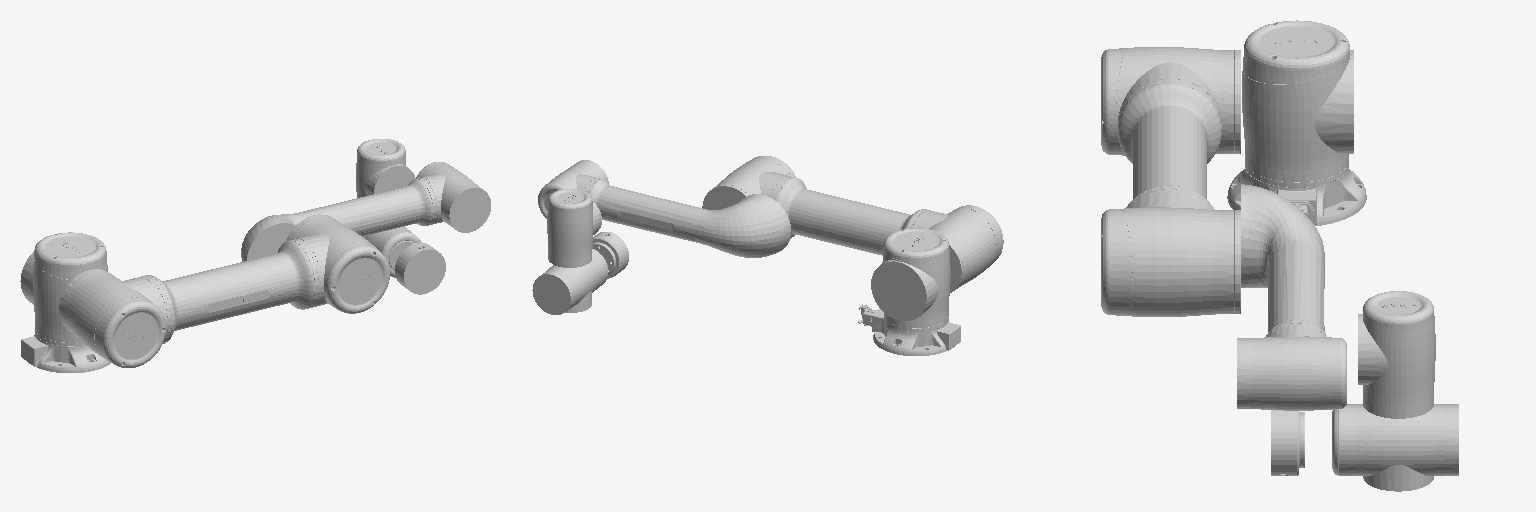
The robot description file, URDF, robot "jaka_zu7":
<?xml version="1.0" encoding="utf-8"?>
<!-- This URDF was automatically created by SolidWorks to URDF Exporter! Originally created by [author] ([email redacted]) 
     Commit Version: 1.5.1-0-g916b5db  Build Version: 1.5.7152.31018
     For more information, please see http://wiki.ros.org/sw_urdf_exporter -->
<robot
  name="jaka_zu7">

  <link name="dummy" />
  <joint name="dummy_joint" type="fixed">
       <parent link="dummy"/>
       <child link="Link_0"/>
  </joint>

  <link
    name="Link_0">
    <inertial>
      <origin
        xyz="0.00096371 8.8222E-08 0.019555"
        rpy="0 0 0" />
      <mass
        value="4.0392" />
      <inertia
        ixx="0.0048763"
        ixy="-1.8056E-07"
        ixz="2.5196E-05"
        iyy="0.0068003"
        iyz="-1.7678E-09"
        izz="0.010618" />
    </inertial>
    <visual>
      <origin
        xyz="0 0 0"
        rpy="0 0 0" />
      <geometry>
        <mesh
          filename="package://jaka_rviz/meshes/jaka_zu7_meshes/Link_0.STL" />
      </geometry>
      <material
        name="">
        <color
          rgba="0.84706 0.84706 0.84706 1" />
      </material>
    </visual>
    <collision>
      <origin
        xyz="0 0 0"
        rpy="0 0 0" />
      <geometry>
        <mesh
          filename="package://jaka_rviz/meshes/jaka_zu7_meshes/Link_0.STL" />
      </geometry>
    </collision>
  </link>
  <link
    name="Link_1">
    <inertial>
      <origin
        xyz="-2.5186E-07 0.0033226 -0.001509"
        rpy="0 0 0" />
      <mass
        value="15.135" />
      <inertia
        ixx="0.044302"
        ixy="1.5349E-07"
        ixz="-6.1966E-07"
        iyy="0.043091"
        iyz="1.4326E-05"
        izz="0.030523" />
    </inertial>
    <visual>
      <origin
        xyz="0 0 0"
        rpy="0 0 0" />
      <geometry>
        <mesh
          filename="package://jaka_rviz/meshes/jaka_zu7_meshes/Link_1.STL" />
      </geometry>
      <material
        name="">
        <color
          rgba="0.84706 0.84706 0.84706 1" />
      </material>
    </visual>
    <collision>
      <origin
        xyz="0 0 0"
        rpy="0 0 0" />
      <geometry>
        <mesh
          filename="package://jaka_rviz/meshes/jaka_zu7_meshes/Link_1.STL" />
      </geometry>
    </collision>
  </link>
  <joint
    name="joint_1"
    type="revolute">
    <origin
      xyz="0 0 0.12015"
      rpy="0 0 0" />
    <parent
      link="Link_0" />
    <child
      link="Link_1" />
    <axis
      xyz="0 0 -1" />
    <limit
      lower="0"
      upper="0"
      effort="0"
      velocity="0" />
  </joint>
  <link
    name="Link_2">
    <inertial>
      <origin
        xyz="0.18 8.8001E-09 -0.14308"
        rpy="0 0 0" />
      <mass
        value="42.872" />
      <inertia
        ixx="0.1014"
        ixy="-1.1106E-06"
        ixz="-1.3363E-07"
        iyy="1.1119"
        iyz="2.9045E-08"
        izz="1.0844" />
    </inertial>
    <visual>
      <origin
        xyz="0 0 0"
        rpy="0 0 0" />
      <geometry>
        <mesh
          filename="package://jaka_rviz/meshes/jaka_zu7_meshes/Link_2.STL" />
      </geometry>
      <material
        name="">
        <color
          rgba="0.84706 0.84706 0.84706 1" />
      </material>
    </visual>
    <collision>
      <origin
        xyz="0 0 0"
        rpy="0 0 0" />
      <geometry>
        <mesh
          filename="package://jaka_rviz/meshes/jaka_zu7_meshes/Link_2.STL" />
      </geometry>
    </collision>
  </link>
  <joint
    name="joint_2"
    type="revolute">
    <origin
      xyz="0 0 0"
      rpy="1.5708 0 0" />
    <parent
      link="Link_1" />
    <child
      link="Link_2" />
    <axis
      xyz="0 0 1" />
    <limit
      lower="0"
      upper="0"
      effort="0"
      velocity="0" />
  </joint>
  <link
    name="Link_3">
    <inertial>
      <origin
        xyz="0.15515 5.4643E-08 -0.012576"
        rpy="0 0 0" />
      <mass
        value="16.562" />
      <inertia
        ixx="0.020968"
        ixy="-3.9001E-06"
        ixz="-0.018394"
        iyy="0.28365"
        iyz="-1.2859E-07"
        izz="0.27848" />
    </inertial>
    <visual>
      <origin
        xyz="0 0 0"
        rpy="0 0 0" />
      <geometry>
        <mesh
          filename="package://jaka_rviz/meshes/jaka_zu7_meshes/Link_3.STL" />
      </geometry>
      <material
        name="">
        <color
          rgba="0.84706 0.84706 0.84706 1" />
      </material>
    </visual>
    <collision>
      <origin
        xyz="0 0 0"
        rpy="0 0 0" />
      <geometry>
        <mesh
          filename="package://jaka_rviz/meshes/jaka_zu7_meshes/Link_3.STL" />
      </geometry>
    </collision>
  </link>
  <joint
    name="joint_3"
    type="revolute">
    <origin
      xyz="0.36 0 0"
      rpy="0 0 0" />
    <parent
      link="Link_2" />
    <child
      link="Link_3" />
    <axis
      xyz="0 0 1" />
    <limit
      lower="0"
      upper="0"
      effort="0"
      velocity="0" />
  </joint>
  <link
    name="Link_4">
    <inertial>
      <origin
        xyz="-2.1345E-06 -0.0058004 0.0026717"
        rpy="0 0 0" />
      <mass
        value="5.5525" />
      <inertia
        ixx="0.0092564"
        ixy="1.1341E-07"
        ixz="-1.2578E-08"
        iyy="0.0052251"
        iyz="-8.3499E-05"
        izz="0.0089683" />
    </inertial>
    <visual>
      <origin
        xyz="0 0 0"
        rpy="0 0 0" />
      <geometry>
        <mesh
          filename="package://jaka_rviz/meshes/jaka_zu7_meshes/Link_4.STL" />
      </geometry>
      <material
        name="">
        <color
          rgba="0.84706 0.84706 0.84706 1" />
      </material>
    </visual>
    <collision>
      <origin
        xyz="0 0 0"
        rpy="0 0 0" />
      <geometry>
        <mesh
          filename="package://jaka_rviz/meshes/jaka_zu7_meshes/Link_4.STL" />
      </geometry>
    </collision>
  </link>
  <joint
    name="joint_4"
    type="revolute">
    <origin
      xyz="0.30353 0 -0.11501"
      rpy="0 0 0" />
    <parent
      link="Link_3" />
    <child
      link="Link_4" />
    <axis
      xyz="0 0 1" />
    <limit
      lower="0"
      upper="0"
      effort="0"
      velocity="0" />
  </joint>
  <link
    name="Link_5">
    <inertial>
      <origin
        xyz="-2.0304E-06 -0.0028889 -0.0023424"
        rpy="0 0 0" />
      <mass
        value="6.3339" />
      <inertia
        ixx="0.012993"
        ixy="-1.0764E-07"
        ixz="5.8559E-09"
        iyy="0.0058454"
        iyz="4.5426E-05"
        izz="0.0127" />
    </inertial>
    <visual>
      <origin
        xyz="0 0 0"
        rpy="0 0 0" />
      <geometry>
        <mesh
          filename="package://jaka_rviz/meshes/jaka_zu7_meshes/Link_5.STL" />
      </geometry>
      <material
        name="">
        <color
          rgba="0.84706 0.84706 0.84706 1" />
      </material>
    </visual>
    <collision>
      <origin
        xyz="0 0 0"
        rpy="0 0 0" />
      <geometry>
        <mesh
          filename="package://jaka_rviz/meshes/jaka_zu7_meshes/Link_5.STL" />
      </geometry>
    </collision>
  </link>
  <joint
    name="joint_5"
    type="revolute">
    <origin
      xyz="0 -0.1135 0"
      rpy="1.5708 0 0" />
    <parent
      link="Link_4" />
    <child
      link="Link_5" />
    <axis
      xyz="0 0 1" />
    <limit
      lower="0"
      upper="0"
      effort="0"
      velocity="0" />
  </joint>
  <link
    name="Link_6">
    <inertial>
      <origin
        xyz="2.7652E-05 -1.3485E-05 -0.021245"
        rpy="0 0 0" />
      <mass
        value="1.4169" />
      <inertia
        ixx="0.00071853"
        ixy="-6.9778E-07"
        ixz="-6.378E-07"
        iyy="0.00072375"
        iyz="8.3072E-07"
        izz="0.0011337" />
    </inertial>
    <visual>
      <origin
        xyz="0 0 0"
        rpy="0 0 0" />
      <geometry>
        <mesh
          filename="package://jaka_rviz/meshes/jaka_zu7_meshes/Link_6.STL" />
      </geometry>
      <material
        name="">
        <color
          rgba="0.84706 0.84706 0.84706 1" />
      </material>
    </visual>
    <collision>
      <origin
        xyz="0 0 0"
        rpy="0 0 0" />
      <geometry>
        <mesh
          filename="package://jaka_rviz/meshes/jaka_zu7_meshes/Link_6.STL" />
      </geometry>
    </collision>
  </link>
  <joint
    name="joint_6"
    type="revolute">
    <origin
      xyz="0 0.107 0"
      rpy="-1.5708 0 0" />
    <parent
      link="Link_5" />
    <child
      link="Link_6" />
    <axis
      xyz="0 0 1" />
    <limit
      lower="0"
      upper="0"
      effort="0"
      velocity="0" />
  </joint>
</robot>

--- Render facts (derived) ---
Views: 3 orthographic renders of the robot side by side, from view 1: azimuth 30°, elevation 25°; view 2: azimuth 150°, elevation 25°; view 3: azimuth 270°, elevation 25°.
Model jaka_zu7 with 8 links and 7 joints (6 revolute, 1 fixed), rooted at dummy, posed all joints at 0.
Visible links, largest first — view 1: Link_2, Link_3, Link_1, Link_4, Link_0, Link_6, Link_5; view 2: Link_2, Link_3, Link_1, Link_4, Link_5, Link_0, Link_6; view 3: Link_2, Link_3, Link_1, Link_5, Link_4, Link_0, Link_6.
Boxes of the visible links, x1,y1,x2,y2 form: Link_2: (59,214,389,367); Link_3: (241,162,490,261); Link_1: (20,232,107,345); Link_4: (356,139,415,197); Link_0: (21,334,110,372); Link_6: (395,243,445,294); Link_5: (363,226,421,277); Link_2: (702,156,1003,292); Link_3: (538,160,790,257); Link_1: (871,228,950,331); Link_4: (547,189,601,267); Link_5: (532,249,607,314); Link_0: (858,304,960,355); Link_6: (593,232,628,278); Link_2: (1101,47,1240,316); Link_3: (1237,184,1346,410); Link_1: (1242,20,1353,187); Link_5: (1332,404,1458,491); Link_4: (1358,291,1435,418); Link_0: (1227,168,1366,225); Link_6: (1271,410,1304,475).
Bounding box of the posed robot: 0.8527 × 0.4047 × 0.2365 m (x, y, z).
7 mesh visuals loaded from 7 distinct referenced files (7 binary STL).
